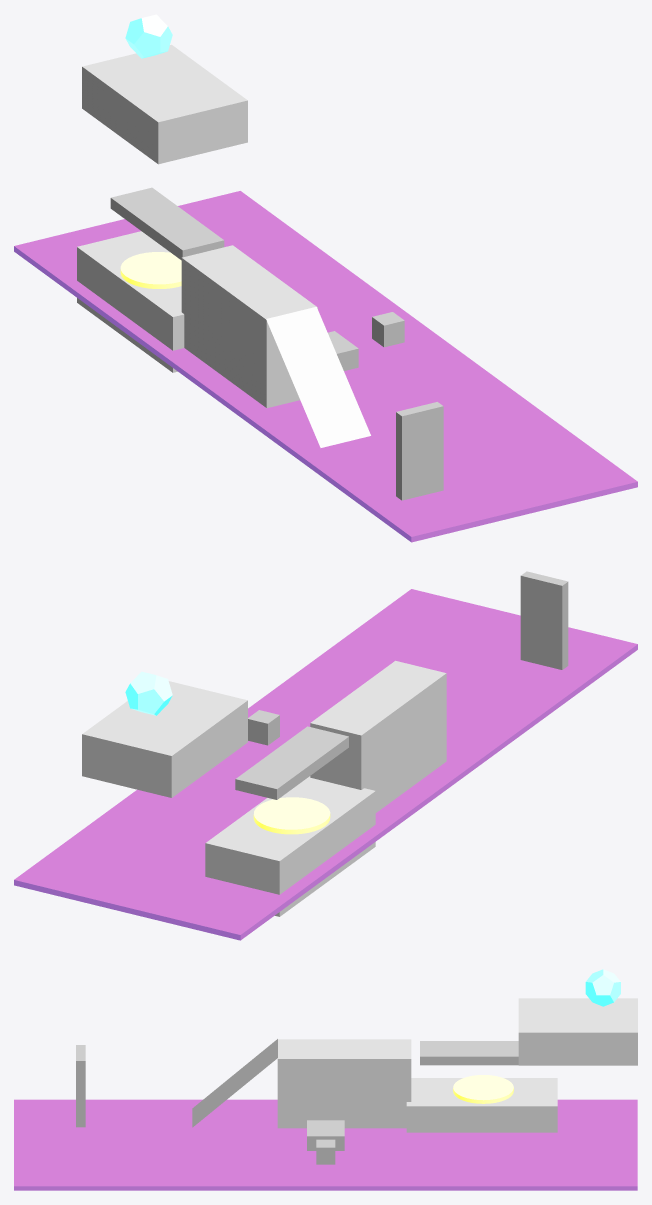
File: room2.glb
3 views of the same model, one above another, from view 1: azimuth 30°, elevation 25°; view 2: azimuth 150°, elevation 25°; view 3: azimuth 270°, elevation 25° (orthographic). The views are drawn at different scales.
Visible parts, largest first — view 1: Box, Box.002, Box.001, Plane, Box.003, Door_room1, LockedDoor_key_room2, JumpPad, Goal, Item_key; view 2: Box, Box.001, Box.002, Box.003, Door_room1, LockedDoor_key_room2, JumpPad, Goal, Item_key; view 3: Box, Box.001, Box.002, Box.003, LockedDoor_key_room2, Plane, JumpPad, Goal, Cube, Door_room1, Item_key.
Part boxes in pixels (x1,y1,x2,y2): Box: [14, 191, 637, 542]; Box.002: [82, 44, 247, 164]; Box.001: [181, 245, 317, 407]; Plane: [266, 307, 370, 447]; Box.003: [77, 231, 184, 372]; Door_room1: [396, 402, 443, 500]; LockedDoor_key_room2: [110, 187, 224, 260]; JumpPad: [120, 252, 181, 288]; Goal: [125, 14, 172, 58]; Item_key: [372, 312, 404, 347]; Box: [14, 589, 637, 940]; Box.001: [310, 660, 446, 812]; Box.002: [82, 681, 247, 797]; Box.003: [205, 776, 375, 916]; Door_room1: [520, 571, 568, 669]; LockedDoor_key_room2: [235, 726, 348, 799]; JumpPad: [253, 797, 330, 834]; Goal: [125, 671, 172, 715]; Item_key: [248, 710, 279, 745]; Box: [14, 1099, 637, 1190]; Box.001: [277, 1039, 411, 1128]; Box.002: [518, 998, 637, 1065]; Box.003: [406, 1078, 557, 1132]; LockedDoor_key_room2: [420, 1041, 518, 1065]; Plane: [192, 1039, 277, 1127]; JumpPad: [453, 1075, 513, 1103]; Goal: [585, 969, 620, 1006]; Cube: [307, 1120, 344, 1150]; Door_room1: [76, 1045, 85, 1127]; Item_key: [316, 1139, 335, 1164].
Size of the model in its own units: 10.89 by 11.14 by 33.11.
